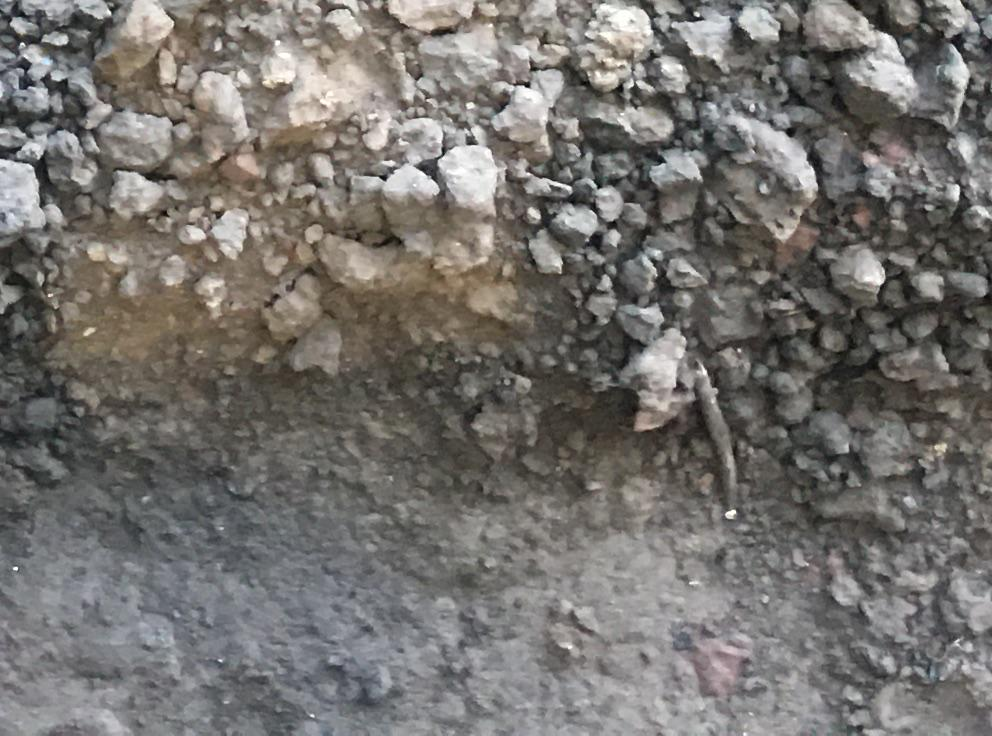block: (705, 110, 812, 238), (841, 32, 919, 127), (100, 1, 170, 79), (434, 143, 497, 223), (803, 4, 877, 48)
